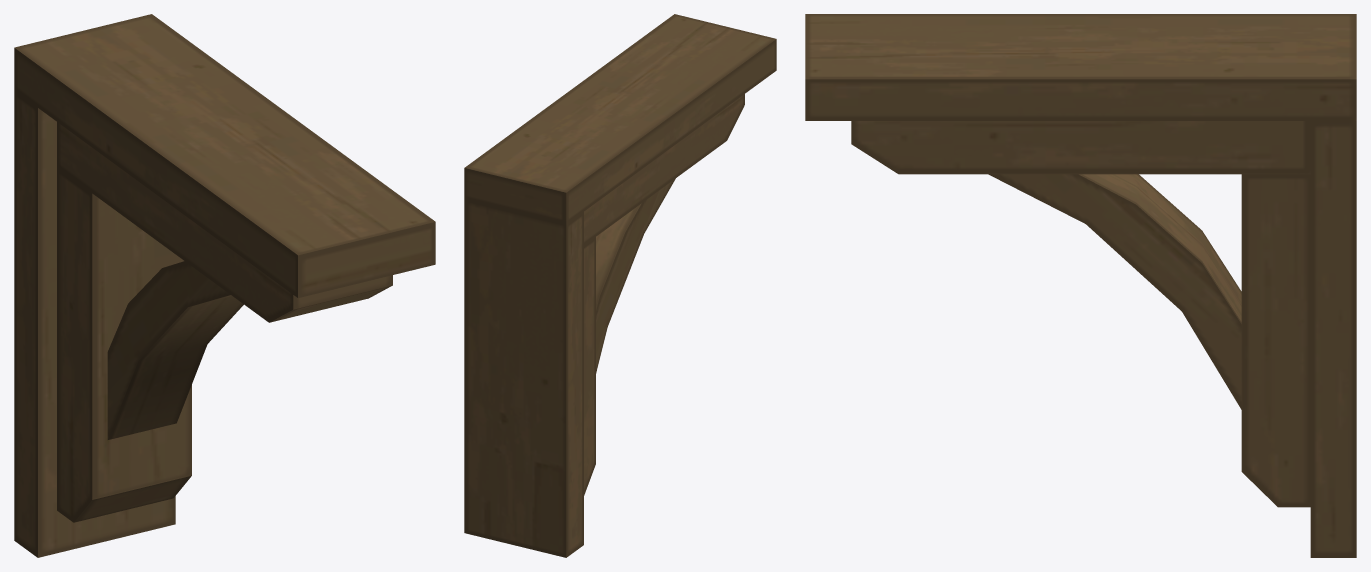
Rendered from SM_building_part_03.glb.
The picture shows the model from 3 angles, left to right: view 1: azimuth 30°, elevation 25°; view 2: azimuth 150°, elevation 25°; view 3: azimuth 270°, elevation 25°; orthographic projection. The views are drawn at different scales.
Visible parts, largest first — view 1: SM_building_part_03; view 2: SM_building_part_03; view 3: SM_building_part_03.
Boxes of the visible parts, <box> form: SM_building_part_03: <box>14,14,435,557</box>; SM_building_part_03: <box>464,14,776,557</box>; SM_building_part_03: <box>805,14,1356,557</box>.
Bounding box in the file's own units: 0.3359 × 1.15 × 1.2.
Materials: 1 (1 with a texture image).
